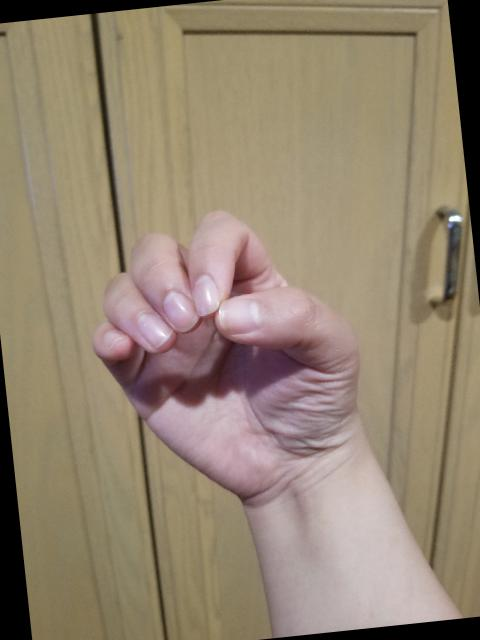O: (76, 192, 381, 516)
